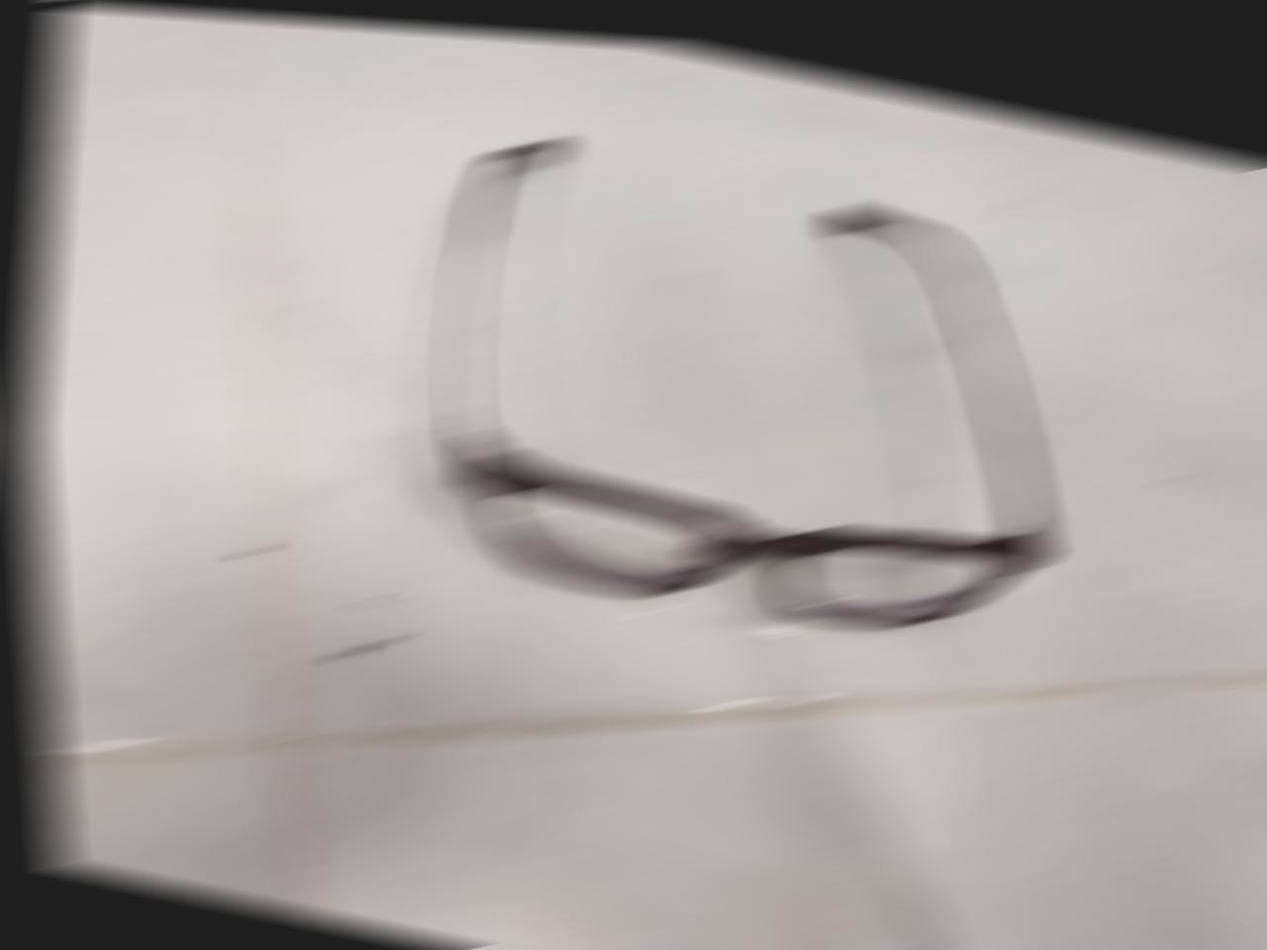glasses: (377, 93, 1138, 703)
